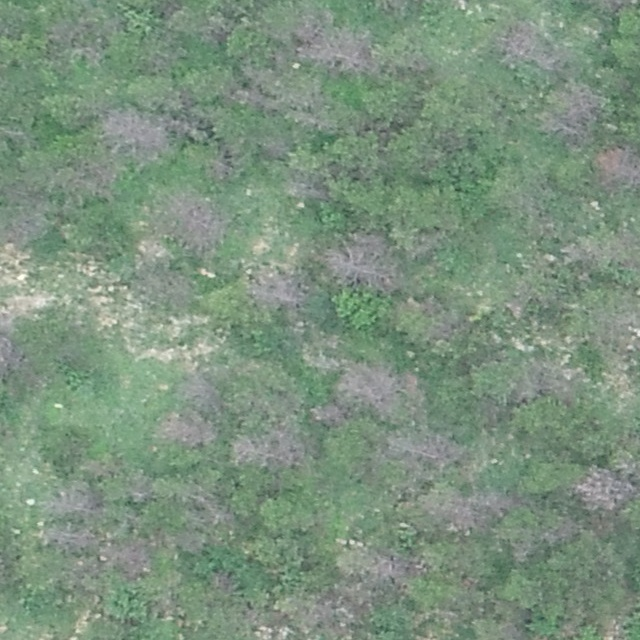unhealthy: (230, 62, 332, 120), (323, 228, 400, 294), (155, 191, 229, 252), (343, 354, 419, 413), (298, 19, 374, 76), (422, 487, 506, 533), (101, 104, 171, 159), (540, 84, 604, 144), (298, 585, 370, 638), (383, 429, 465, 471), (398, 297, 468, 346), (233, 425, 309, 470), (495, 20, 559, 73), (564, 230, 640, 273), (340, 545, 419, 586), (513, 358, 583, 402), (572, 465, 635, 513), (46, 15, 104, 65), (181, 482, 235, 533), (246, 266, 308, 310), (595, 304, 639, 359), (68, 157, 119, 202), (593, 144, 638, 195), (155, 412, 220, 447), (43, 482, 103, 518), (101, 539, 154, 577), (178, 372, 221, 411), (2, 210, 48, 245), (41, 524, 97, 552), (284, 169, 327, 202), (173, 115, 214, 141), (543, 516, 581, 544), (306, 399, 344, 426), (0, 328, 18, 382), (126, 472, 156, 502), (204, 154, 235, 181), (260, 134, 291, 161), (209, 569, 238, 594), (495, 620, 529, 639)
